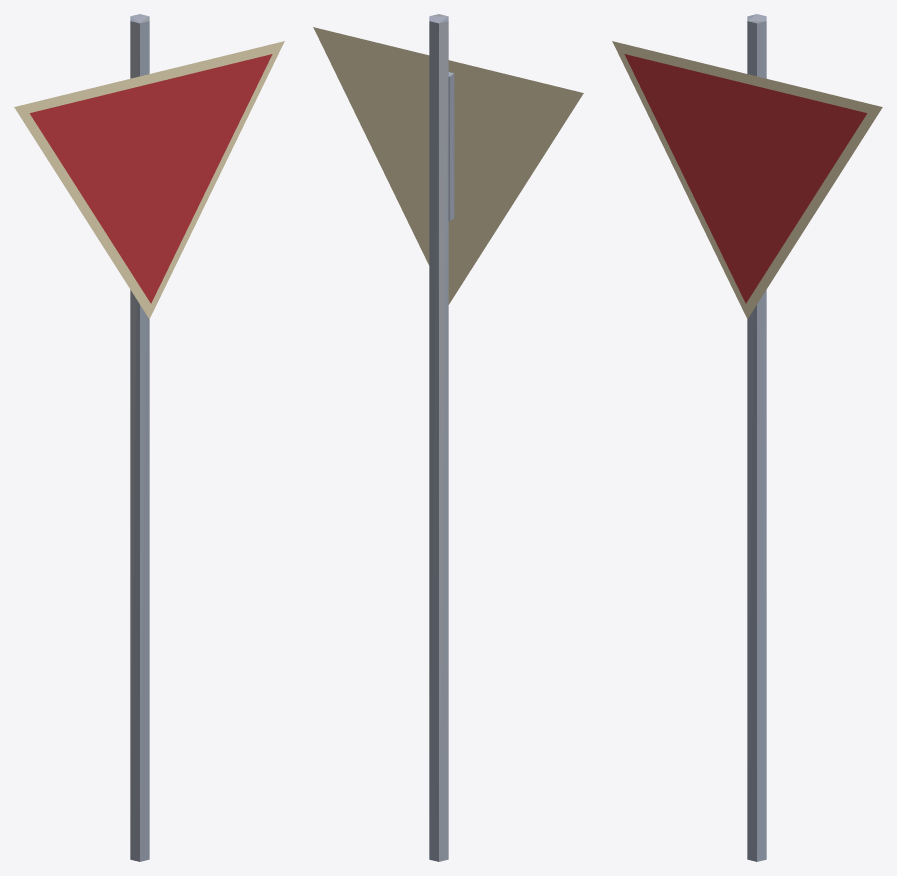
The model's file is HK_Sign_Stop.lod.glb.
3 views of the same model, side by side, from view 1: azimuth 30°, elevation 25°; view 2: azimuth 150°, elevation 25°; view 3: azimuth 330°, elevation 25° (orthographic).
Visible parts, largest first — view 1: HK_Sign_Stop; view 2: HK_Sign_Stop; view 3: HK_Sign_Stop.
Part boxes in pixels (x1,y1,x2,y2): HK_Sign_Stop: (14, 14, 284, 861); HK_Sign_Stop: (313, 14, 583, 861); HK_Sign_Stop: (612, 14, 882, 861).
Size of the model in its own units: 0.98 by 2.9 by 0.1003.
